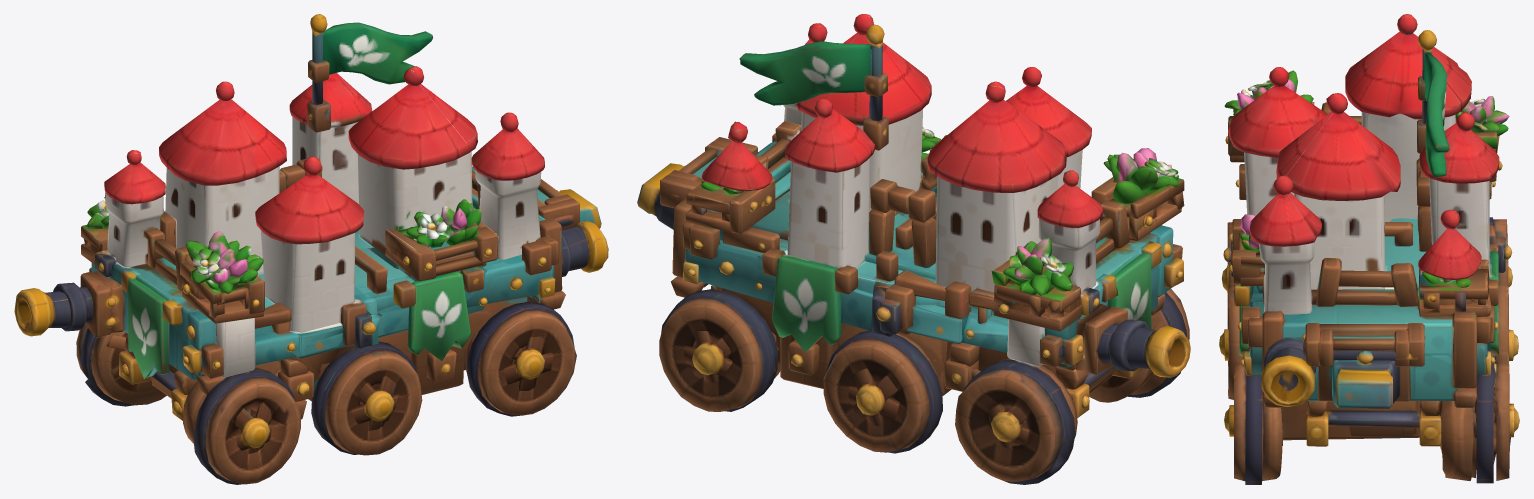
The model's file is castle-large.glb.
3 renders of one model, left to right at view 1: azimuth 30°, elevation 25°; view 2: azimuth 150°, elevation 25°; view 3: azimuth 270°, elevation 25°, orthographic. The views are drawn at different scales.
Bounding box in the file's own units: 0.9565 × 0.6313 × 0.4438.
1 material, 1 textured.
